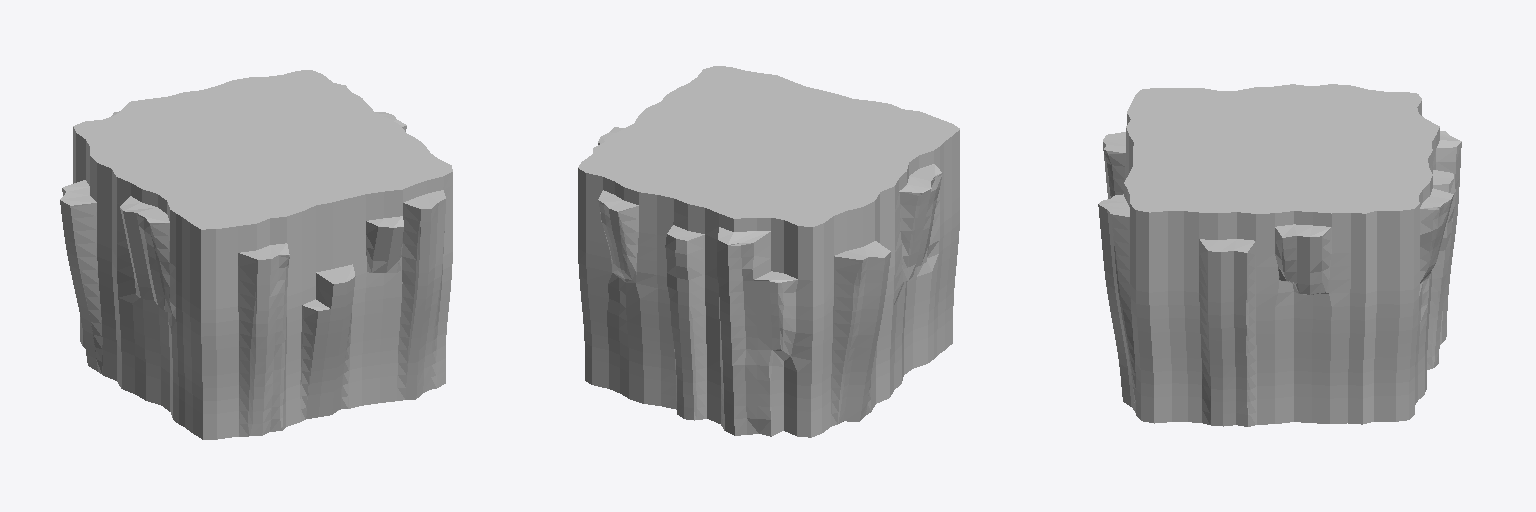
Rendered from Ground1.obj.
3 renders of one model, left to right at view 1: azimuth 30°, elevation 25°; view 2: azimuth 150°, elevation 25°; view 3: azimuth 270°, elevation 25°, orthographic.
Parts seen in each view (by area): view 1: pCube1; view 2: pCube1; view 3: pCube1.
Boxes of the visible parts, <box> form: pCube1: <box>60,70,452,439</box>; pCube1: <box>578,66,959,437</box>; pCube1: <box>1098,84,1461,426</box>.
Bounding box in the file's own units: 28.71 × 18.72 × 28.85.